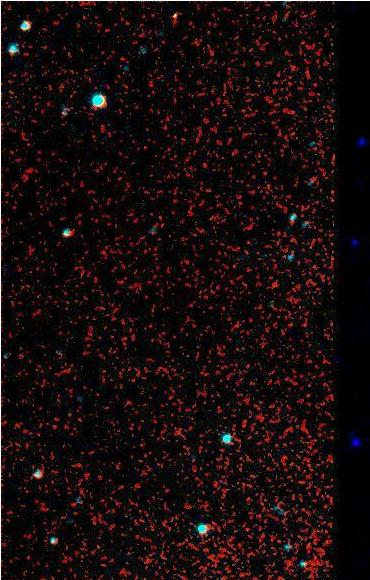star: (159, 1, 189, 31)
